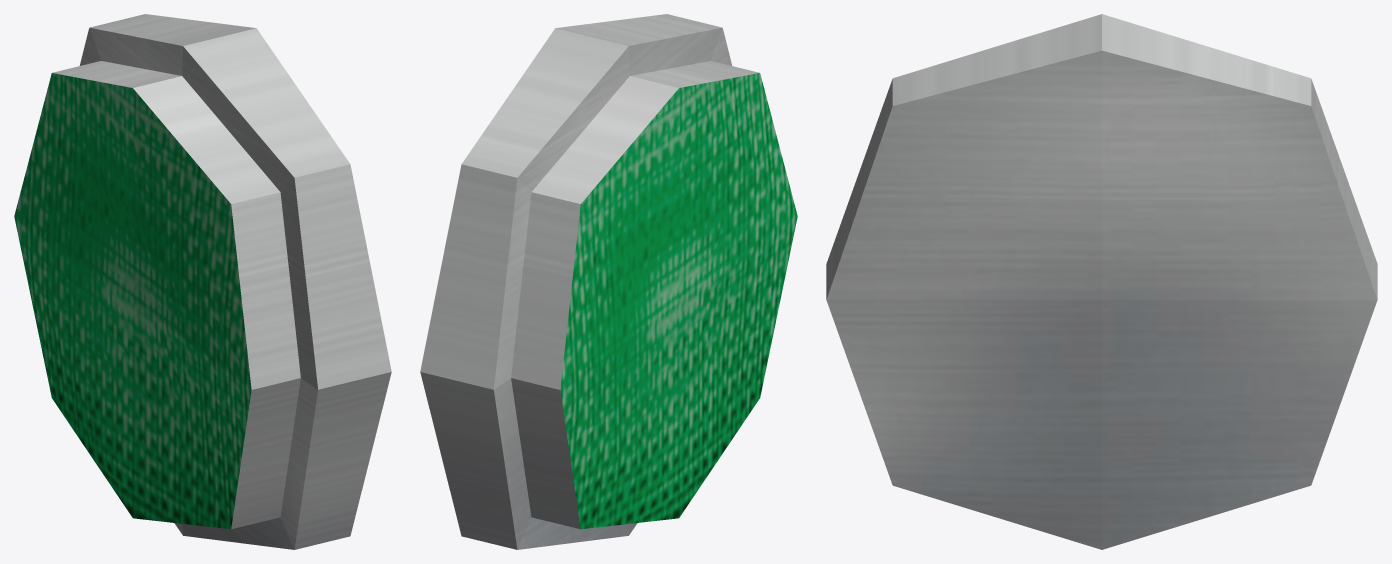
File: Light.fbx
3 renders of one model, left to right at view 1: azimuth 30°, elevation 25°; view 2: azimuth 150°, elevation 25°; view 3: azimuth 270°, elevation 25°, orthographic.
Visible parts, largest first — view 1: Cube.004; view 2: Cube.004; view 3: Cube.004.
Boxes of the visible parts, left/top/right/bottom form: Cube.004: left=14, top=14, right=391, bottom=549; Cube.004: left=420, top=14, right=797, bottom=549; Cube.004: left=826, top=14, right=1377, bottom=549.
Size of the model in its own units: 0.529 by 2 by 2.
